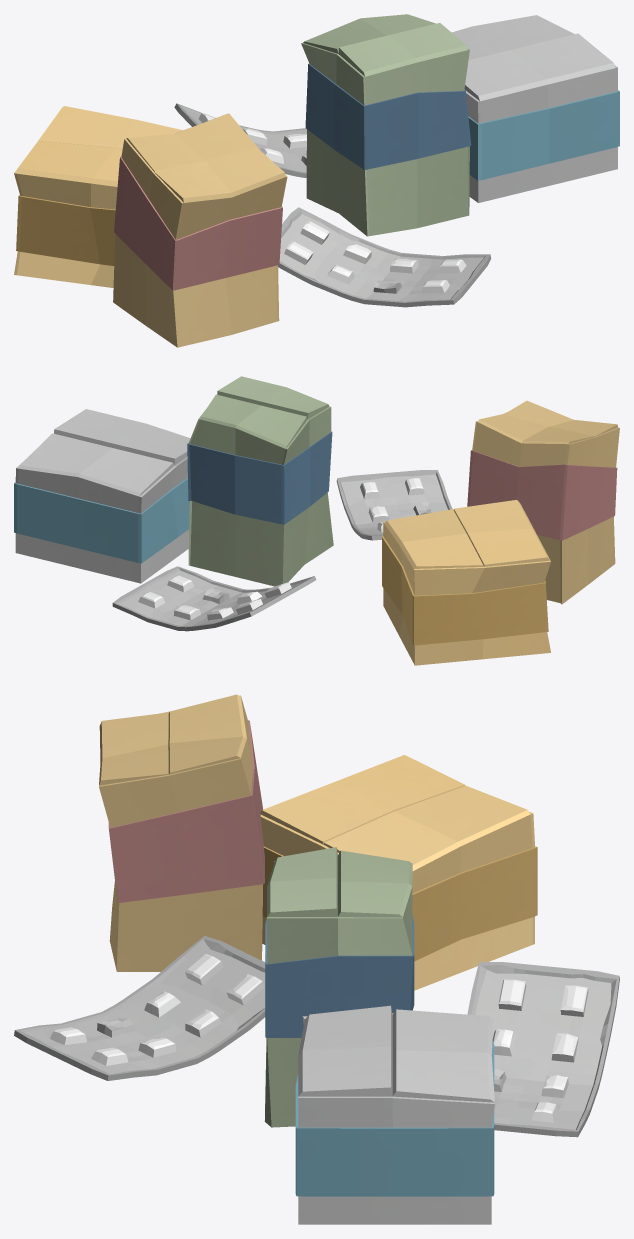
The model's file is medication_cluster_1.glb.
The picture shows the model from 3 angles, top to bottom: view 1: azimuth 30°, elevation 25°; view 2: azimuth 150°, elevation 25°; view 3: azimuth 270°, elevation 25°; orthographic projection. The views are drawn at different scales.
Visible parts, largest first — view 1: box3, box2, box1, box4, med1, med2; view 2: box2, box1, box4, box3, med2, med1; view 3: box1, box3, box4, box2, med2, med1.
Boxes of the visible parts, x1,y1,x2,y2 form: box3: [113, 113, 287, 347]; box2: [301, 14, 471, 236]; box1: [452, 15, 619, 202]; box4: [14, 106, 182, 287]; med1: [278, 207, 491, 307]; med2: [174, 103, 306, 177]; box2: [187, 376, 333, 586]; box1: [14, 409, 190, 583]; box4: [382, 500, 550, 665]; box3: [467, 400, 619, 604]; med2: [112, 566, 316, 631]; med1: [336, 470, 452, 540]; box1: [295, 1005, 494, 1224]; box3: [99, 694, 264, 971]; box4: [260, 755, 537, 990]; box2: [264, 847, 414, 1127]; med2: [467, 962, 619, 1137]; med1: [14, 936, 265, 1080].
Size of the model in its own units: 0.2355 by 0.071 by 0.1764.
Materials: 1 (1 with a texture image).
